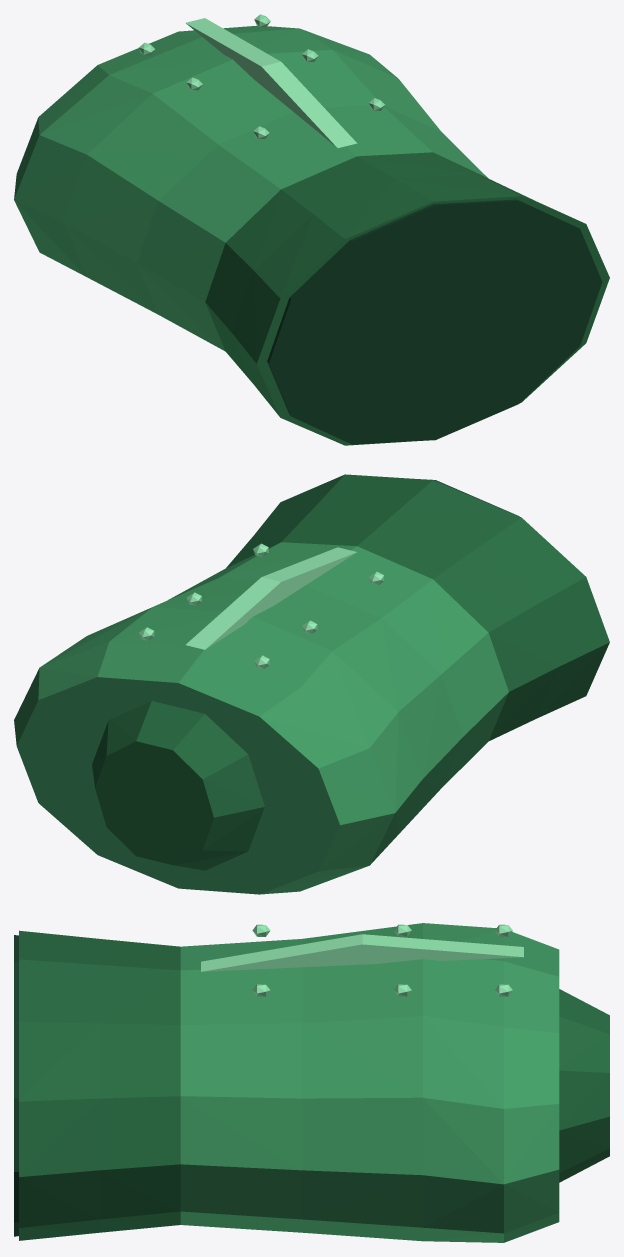
The model's file is drop_adamant_body.glb.
The picture shows the model from 3 angles, top to bottom: view 1: azimuth 30°, elevation 25°; view 2: azimuth 150°, elevation 25°; view 3: azimuth 270°, elevation 25°; orthographic projection. The views are drawn at different scales.
Visible parts, largest first — view 1: drop_adamant_body; view 2: drop_adamant_body; view 3: drop_adamant_body.
Part boxes in pixels (x1=…): drop_adamant_body: x1=14, y1=14, x2=609, y2=445; drop_adamant_body: x1=14, y1=474, x2=609, y2=894; drop_adamant_body: x1=14, y1=923, x2=609, y2=1242.
Size of the model in its own units: 0.3696 by 0.2384 by 0.472.
